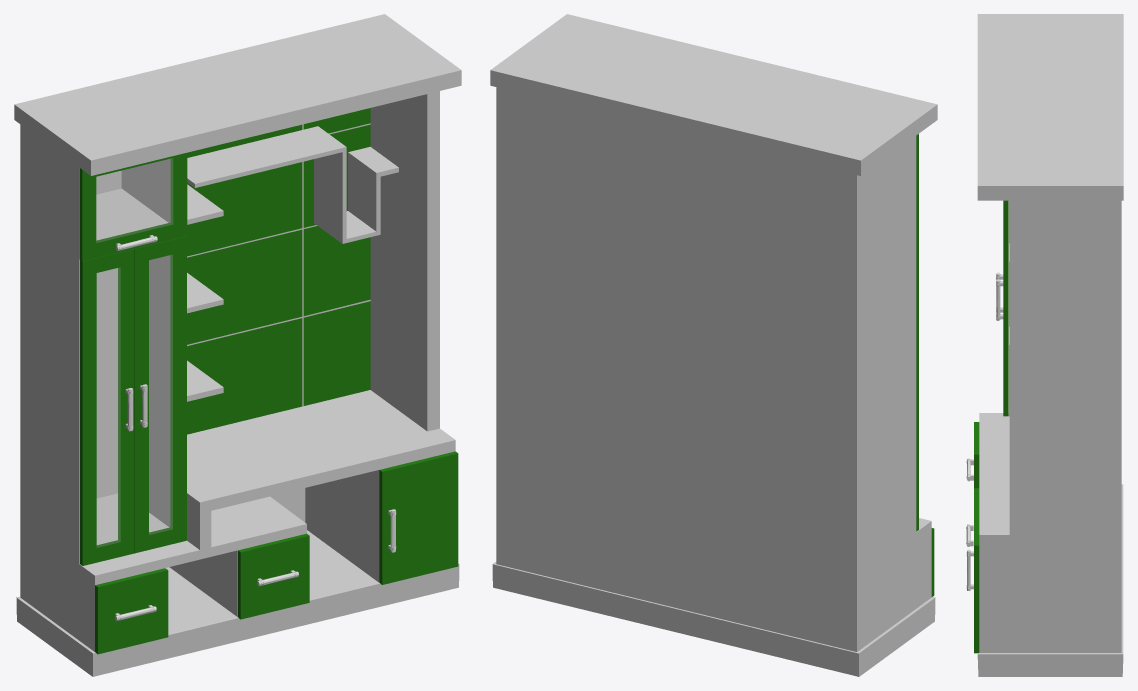
The model's file is lemari_hijau_4.glb.
3 views of the same model, side by side, from view 1: azimuth 30°, elevation 25°; view 2: azimuth 150°, elevation 25°; view 3: azimuth 270°, elevation 25° (orthographic). The views are drawn at different scales.
Visible parts, largest first — view 1: Cube, Cube.001; view 2: Cube; view 3: Cube, Cube.001.
Part boxes in pixels (x1=…): Cube: x1=14, y1=14, x2=461, y2=676; Cube.001: x1=115, y1=235, x2=396, y2=621; Cube: x1=490, y1=14, x2=937, y2=676; Cube: x1=974, y1=14, x2=1123, y2=676; Cube.001: x1=966, y1=272, x2=1003, y2=590.
Size of the model in its own units: 5.73 by 7.64 by 2.21.
